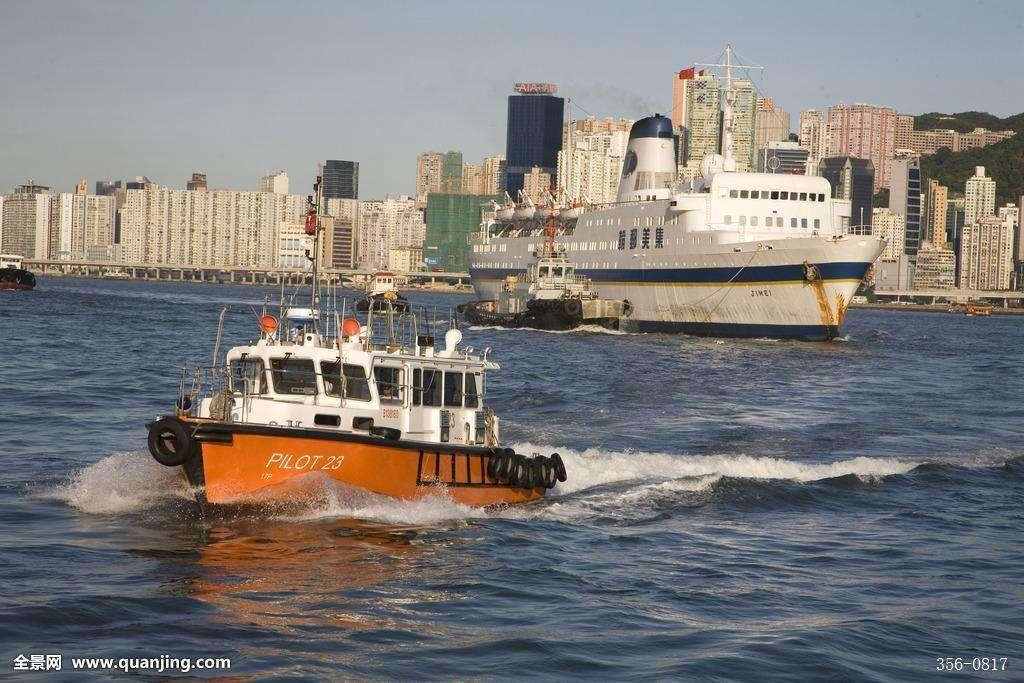otherboat: (151, 268, 564, 517)
